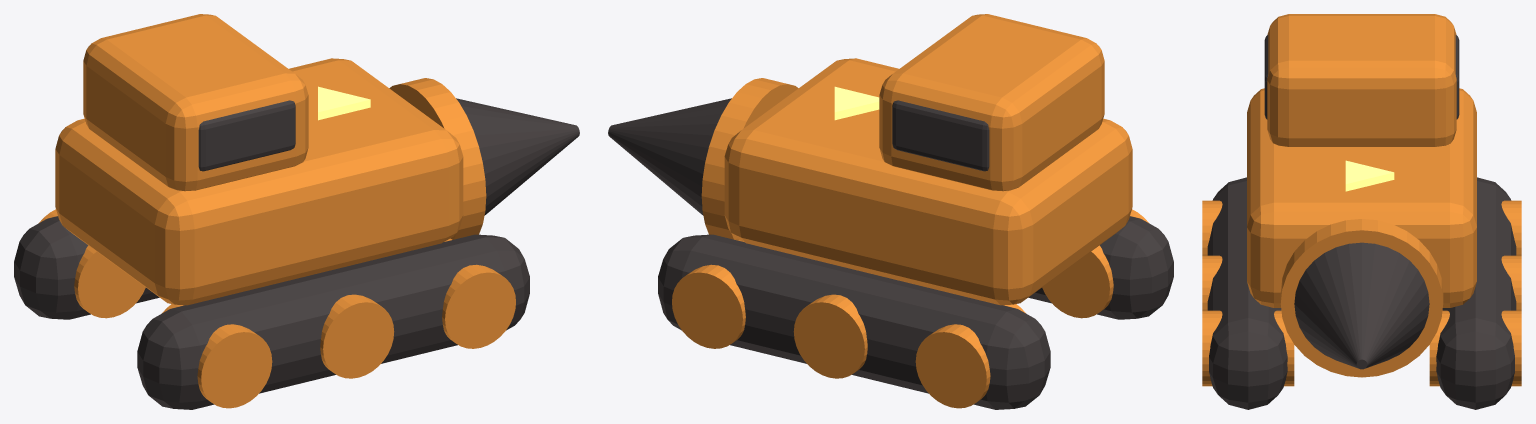
File: escavatore.glb
3 renders of one model, left to right at view 1: azimuth 30°, elevation 25°; view 2: azimuth 150°, elevation 25°; view 3: azimuth 270°, elevation 25°, orthographic. The views are drawn at different scales.
Visible parts, largest first — view 1: escavatore; view 2: escavatore; view 3: escavatore.
Part boxes in pixels (bbox=[...]): escavatore: bbox=[14, 14, 579, 409]; escavatore: bbox=[608, 14, 1173, 409]; escavatore: bbox=[1202, 14, 1521, 409].
Size of the model in its own units: 0.819 by 0.4536 by 0.4956.
